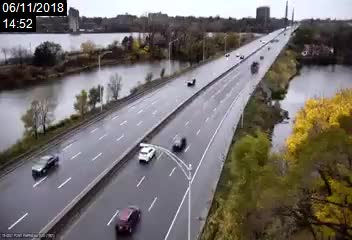personal_car: (114, 205, 144, 234), (30, 153, 60, 177), (138, 144, 155, 166), (172, 135, 185, 152), (186, 74, 196, 88)
